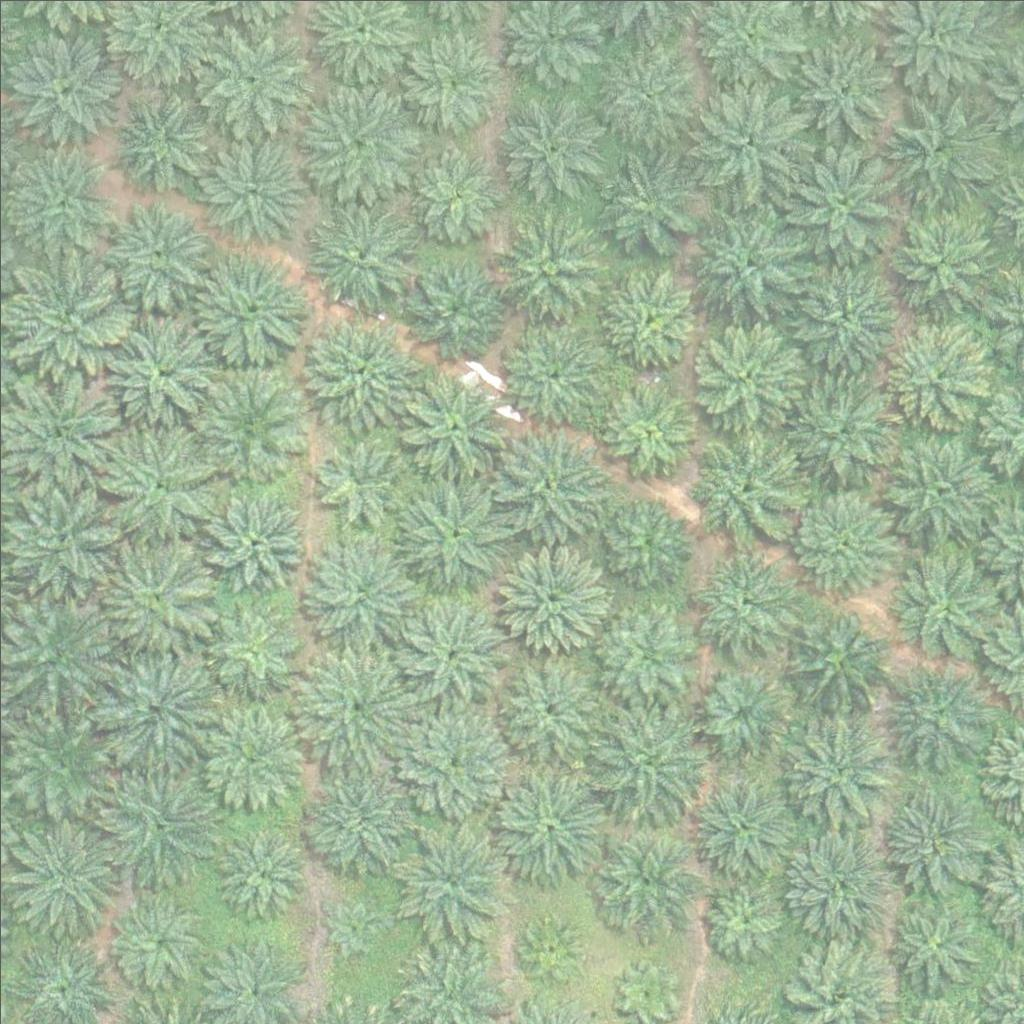Kelapa_Sawit: (7, 709, 120, 823), (101, 773, 214, 887), (776, 601, 889, 715), (891, 549, 1004, 663), (784, 483, 897, 597), (686, 430, 799, 544), (689, 319, 802, 433), (588, 147, 701, 261), (101, 652, 214, 765), (398, 828, 511, 941), (394, 705, 507, 818), (492, 768, 605, 881), (780, 826, 893, 939), (779, 711, 892, 824), (877, 881, 990, 994), (788, 371, 901, 484), (492, 538, 605, 651), (399, 593, 512, 706), (396, 479, 509, 592), (395, 374, 508, 487), (301, 314, 414, 427), (191, 255, 304, 368), (100, 539, 213, 652), (5, 480, 118, 593), (3, 374, 116, 487), (9, 259, 122, 372), (195, 133, 308, 246), (191, 17, 304, 130), (304, 198, 417, 311), (299, 84, 412, 197), (591, 35, 704, 148), (691, 204, 804, 317), (689, 82, 802, 195), (882, 661, 994, 775), (495, 212, 607, 326), (496, 88, 608, 202), (6, 824, 118, 937), (195, 697, 307, 810), (301, 763, 413, 876), (299, 650, 411, 763), (493, 649, 605, 762), (589, 822, 701, 935), (590, 700, 702, 813), (687, 764, 799, 877), (877, 779, 989, 892), (880, 432, 992, 545), (879, 317, 991, 430), (782, 264, 894, 377), (495, 425, 607, 538), (497, 315, 609, 428), (305, 532, 417, 645), (193, 369, 305, 482), (99, 427, 211, 540), (101, 321, 213, 434), (4, 142, 116, 255), (7, 31, 119, 144), (97, 197, 209, 310), (784, 145, 896, 258), (787, 34, 899, 147), (884, 201, 996, 314), (881, 86, 993, 199), (691, 659, 791, 760), (591, 604, 691, 705), (590, 494, 690, 595), (406, 259, 506, 360), (306, 426, 406, 527), (202, 604, 302, 705), (206, 493, 306, 594), (104, 92, 204, 193), (109, 893, 209, 993), (211, 824, 311, 924), (688, 555, 788, 655), (592, 380, 692, 480), (596, 268, 696, 368), (405, 141, 505, 241), (400, 27, 500, 127), (699, 879, 787, 967), (518, 917, 581, 980), (615, 960, 678, 1023), (322, 897, 384, 960)
